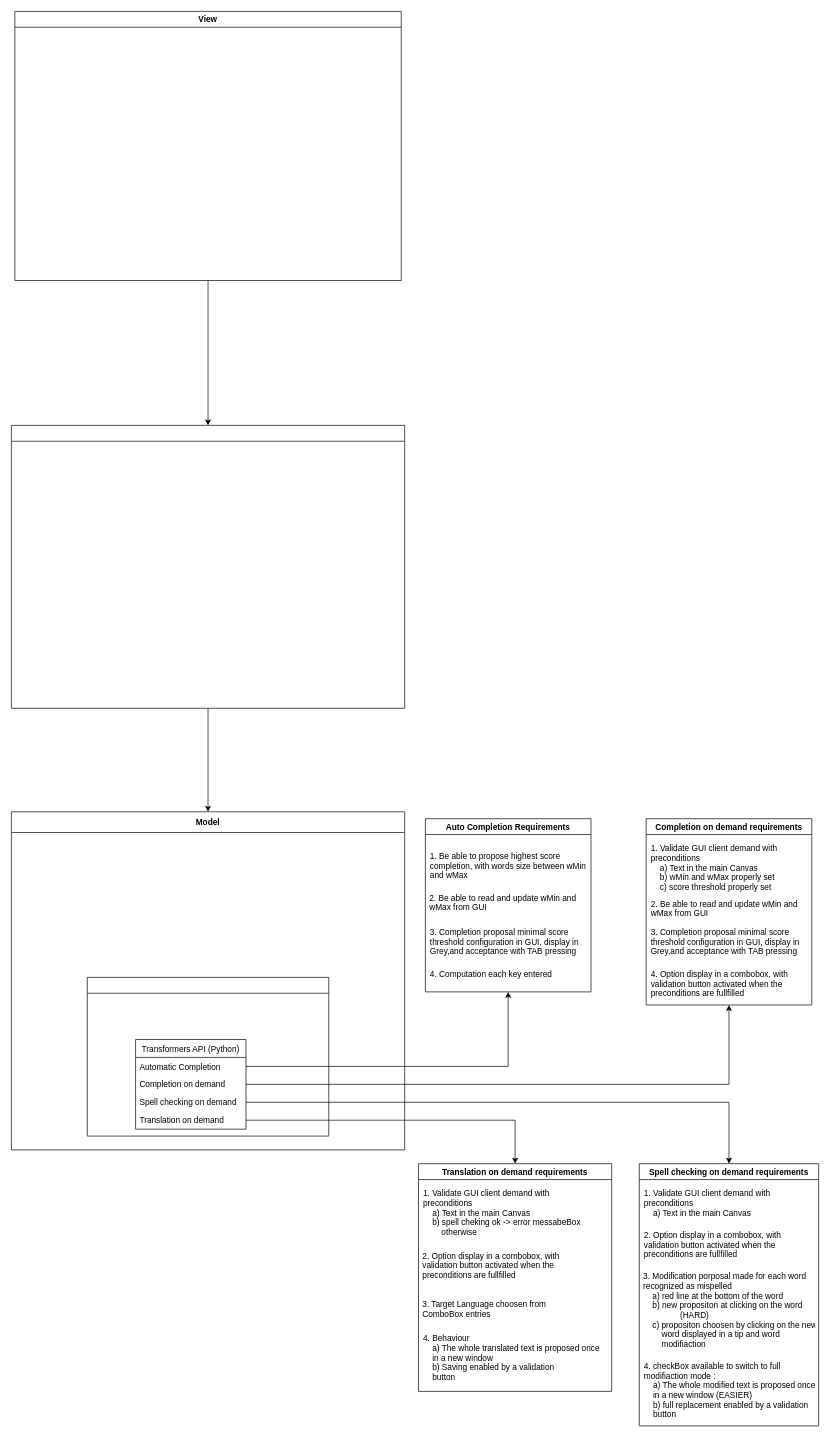
The diagram is 830 pixels wide and 1437 high, and some of its shapes have lost their labels. The shapes that lost their labels are listed below. From the top down, each one's centre as x and y in pixels, then its label:
(x=208, y=566): ViewModel
(x=208, y=1056): C# Wrapper
